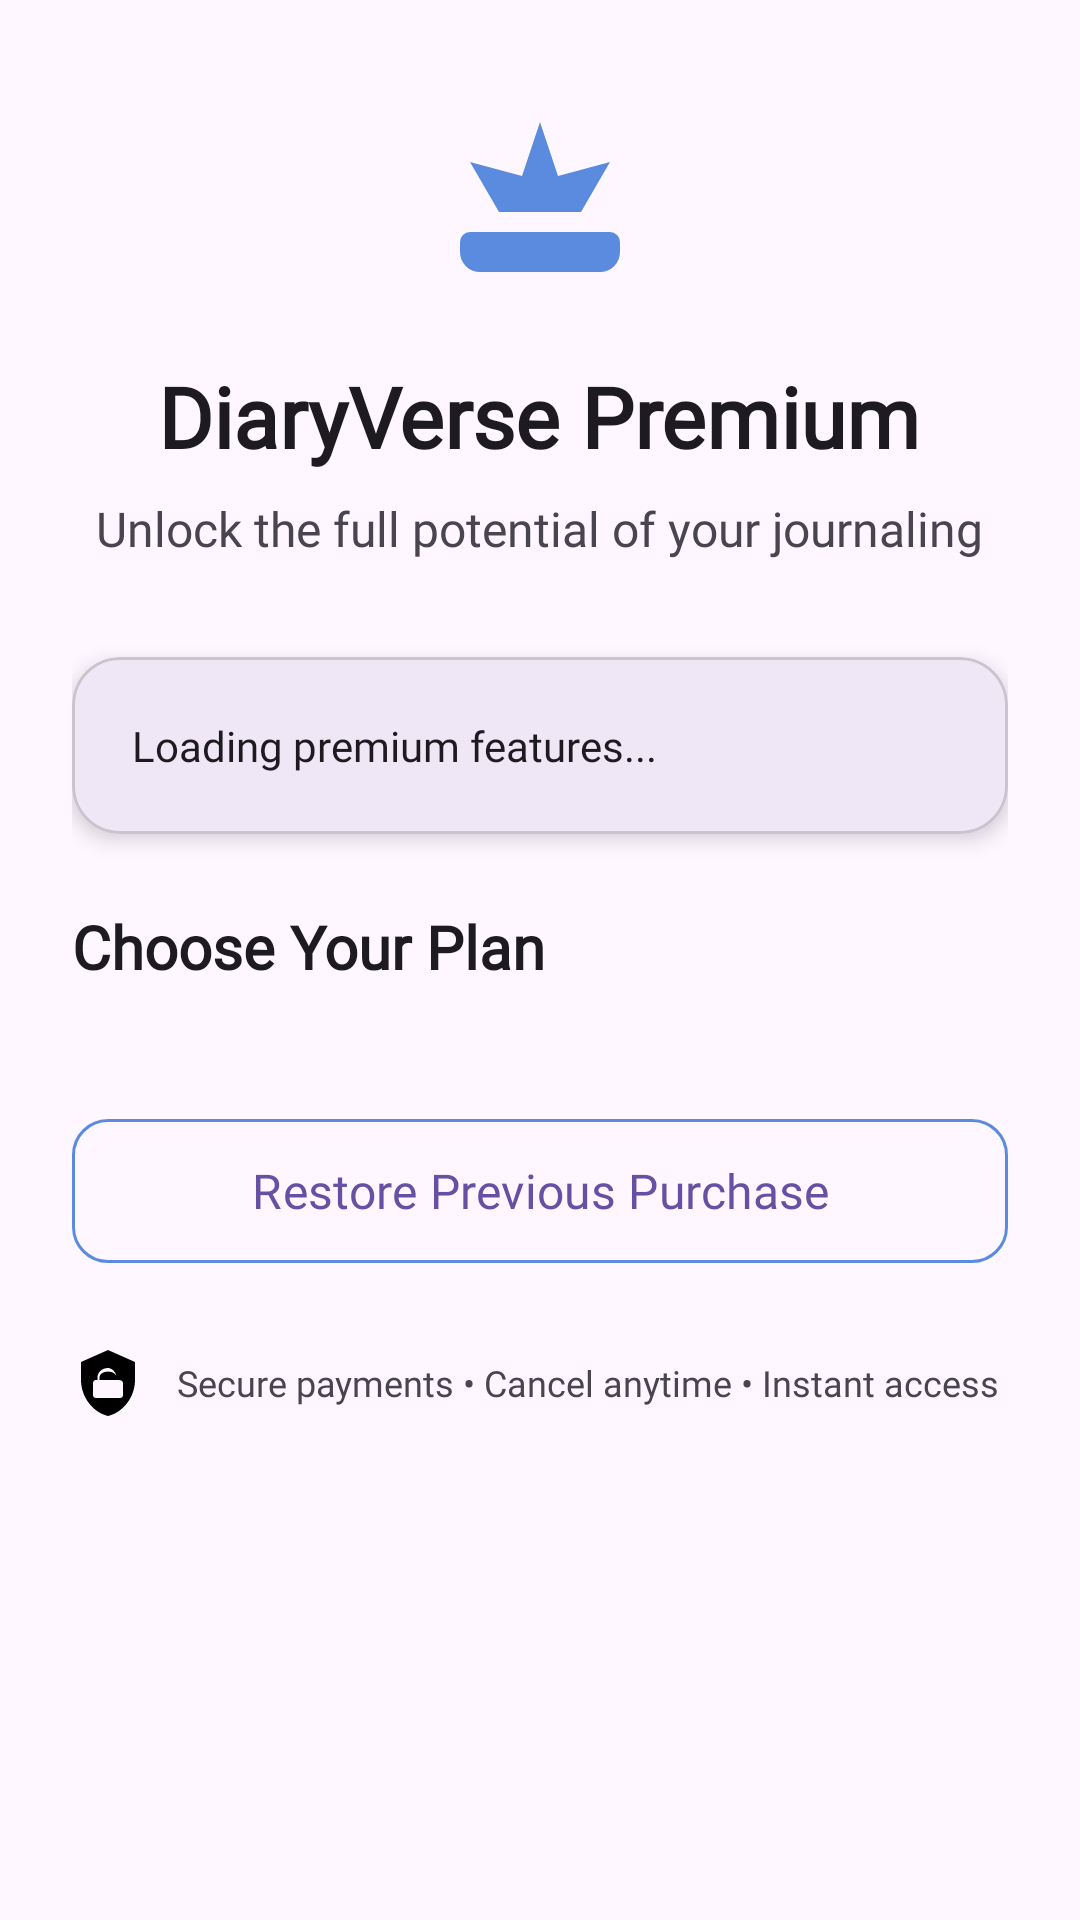

Icons on this 1080*1920 Android screen, each with its box as box=[x1, y1, x2, y2]:
premium crown: box=[460, 122, 620, 272]
shield: box=[81, 1350, 135, 1416]
